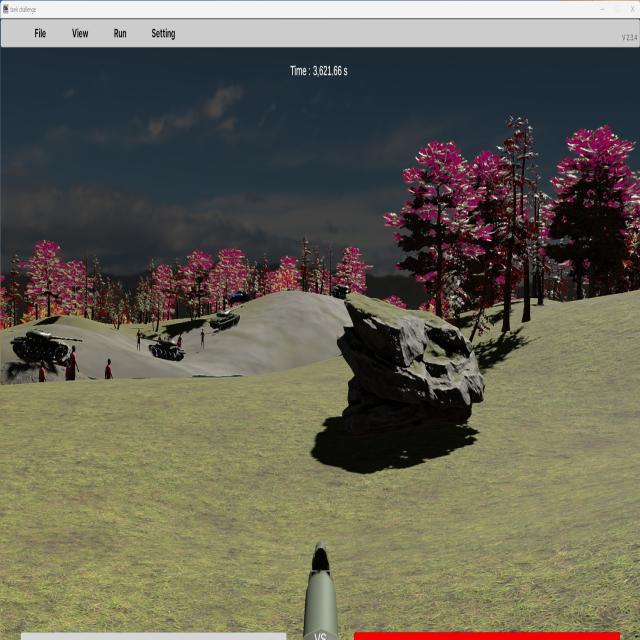Tank: (10, 328, 83, 364), (141, 336, 186, 362), (210, 304, 246, 331)
